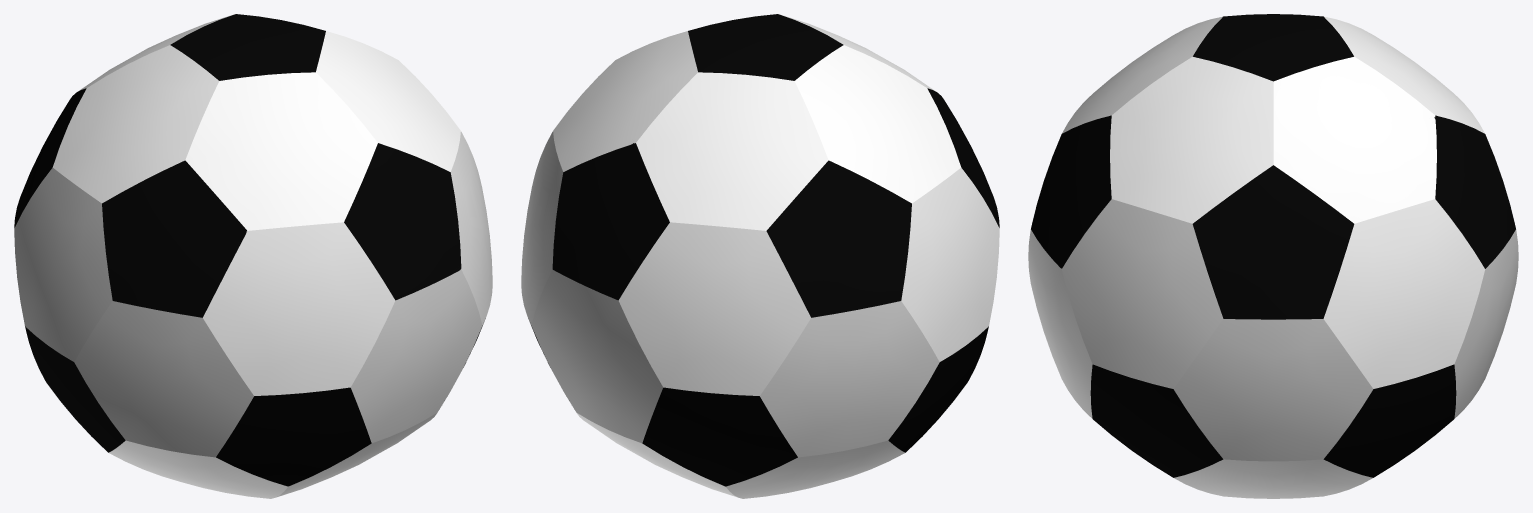
Rendered from soccer ball.glb.
3 views of the same model, side by side, from view 1: azimuth 30°, elevation 25°; view 2: azimuth 150°, elevation 25°; view 3: azimuth 270°, elevation 25° (orthographic).
Parts seen in each view (by area): view 1: Icosphere; view 2: Icosphere; view 3: Icosphere.
Part boxes in pixels (bbox=[...]): Icosphere: bbox=[14, 14, 492, 498]; Icosphere: bbox=[521, 14, 999, 498]; Icosphere: bbox=[1028, 14, 1518, 498].
Size of the model in its own units: 1.67 by 1.66 by 1.69.
Materials: 1 (1 with a texture image).
